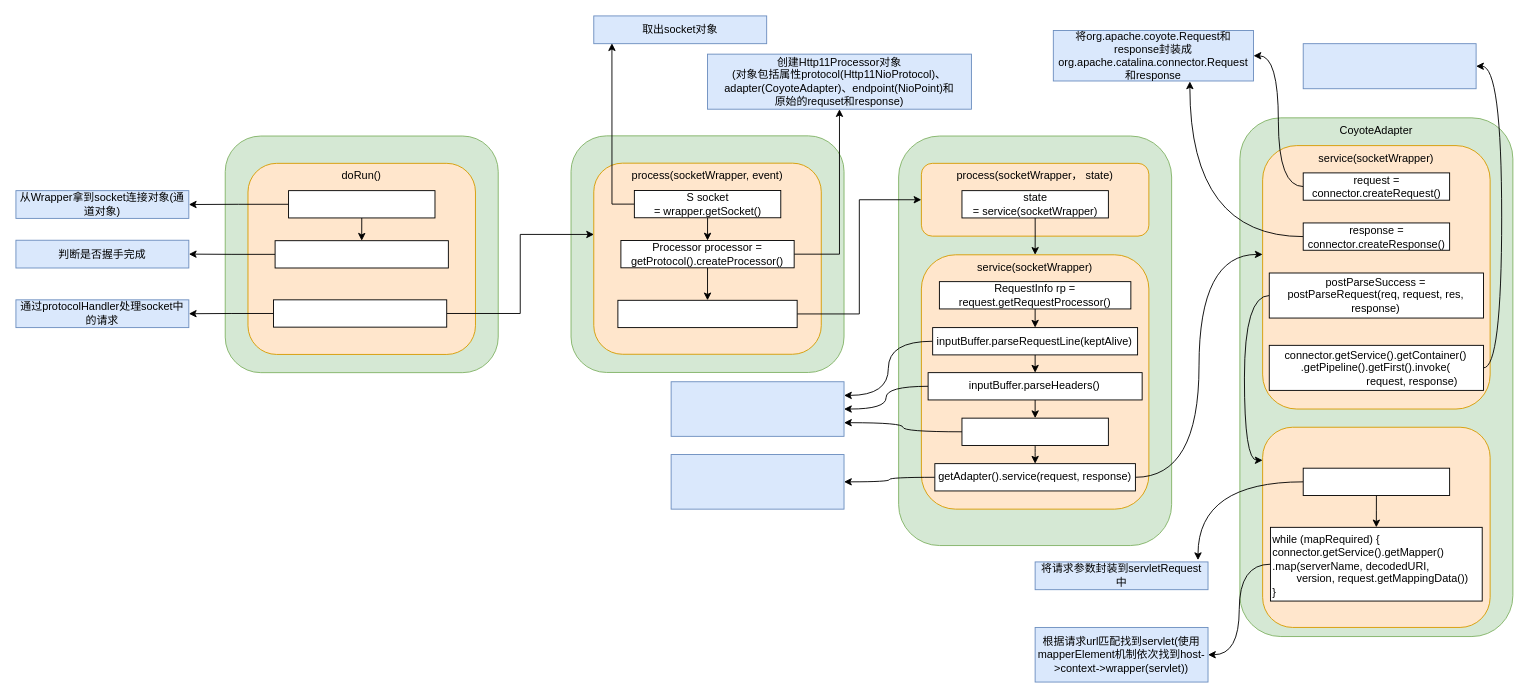
The diagram is 1529 pixels wide and 698 high, and some of its shapes have lost their labels. The shapes that lost their labels are listed below. From the top down, each one's box as (x1, y1, x2, y2) in pixels, then its label:
(1302, 43, 1476, 89): 根据上述的postParseSuccess容器找到servlet进行回调service方法(StandardWrapper)
(288, 190, 435, 218): socketWrapper.getSocket()
(224, 135, 498, 373): NioEndpoint.SocketProcessor
(274, 240, 448, 268): socket.isHandshakeComplete()
(570, 135, 844, 372): AbstractProtocol.ConnectionHandler
(273, 299, 447, 327): getHandler().process (socketWrapper, event)
(617, 299, 797, 328): processor.process(wrapper, status)
(898, 135, 1172, 546): Http11Processor
(670, 381, 844, 436): 解析封装原始request对象和半成品的response对象，之后会传入adapter进异步处理
(961, 417, 1108, 445): prepareRequest()
(670, 454, 844, 509): 将request和response交给CoyoteAdapter进一步封装成servletRequest和serlvetResponse
(1302, 467, 1450, 495): parsePathParameters(req, request)
(1262, 426, 1490, 627): postParseRequest(req, request, res, response)
